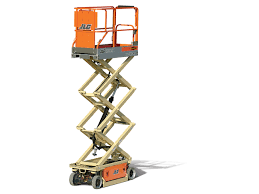Scissor Lift: (69, 5, 142, 190)
